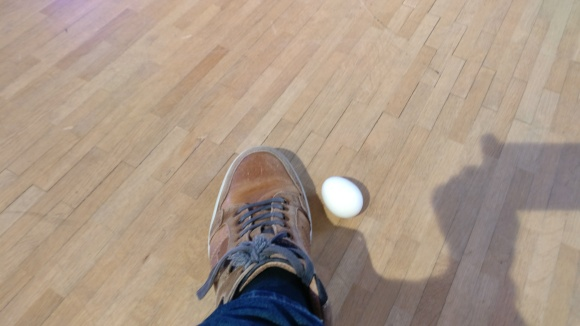egg: (320, 175, 365, 220)
